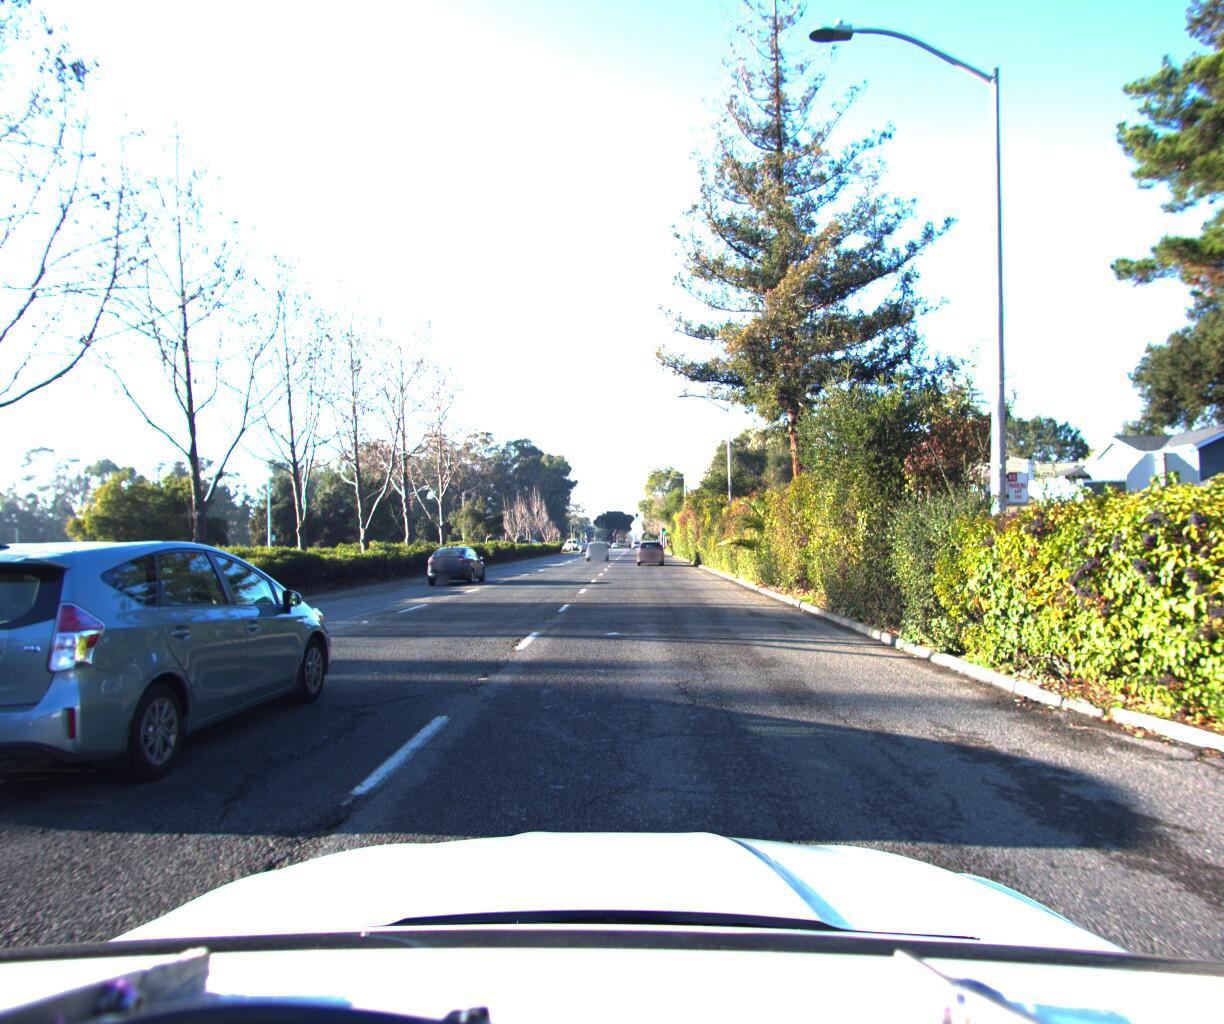car: (0, 530, 353, 828), (421, 540, 489, 582), (634, 536, 664, 561), (584, 534, 608, 556)
